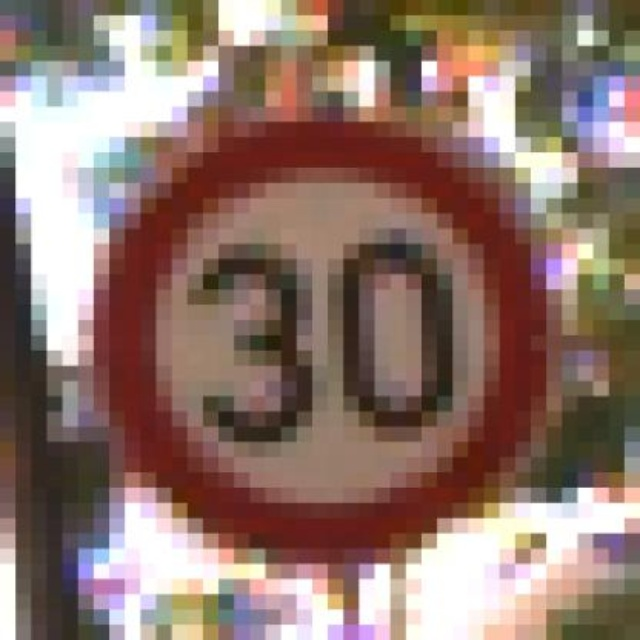Tốc độ tối đa cho phép 30km/h: (93, 121, 544, 562)
